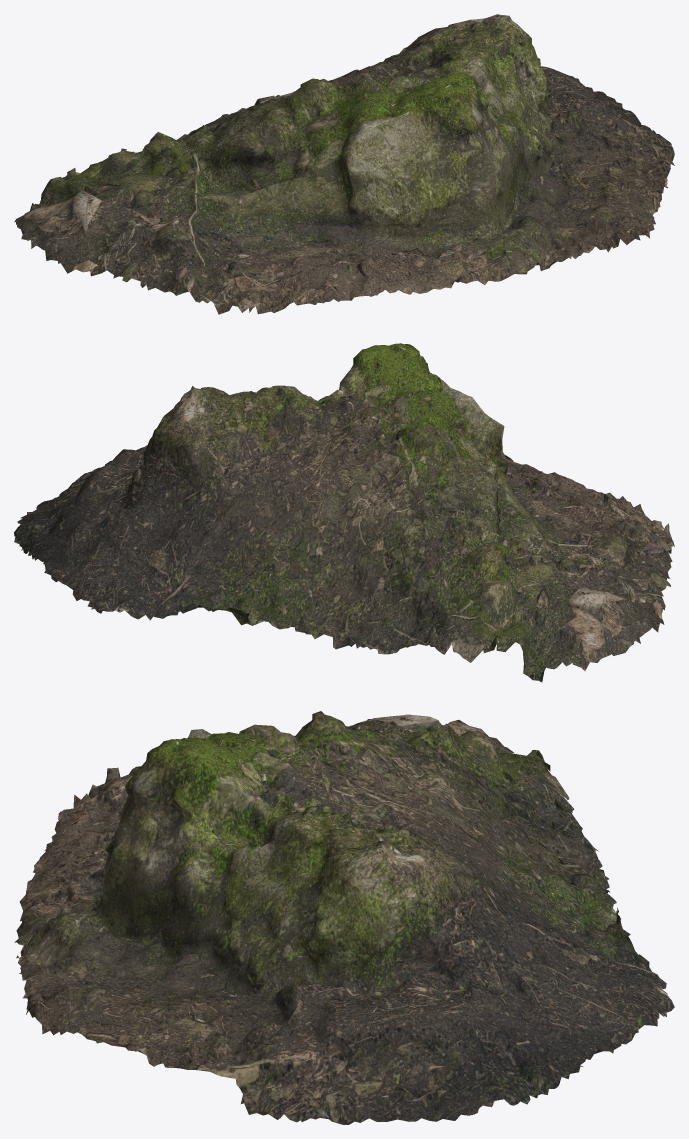
Rendered from mossy_rock2.glb.
The picture shows the model from 3 angles, top to bottom: view 1: azimuth 30°, elevation 25°; view 2: azimuth 150°, elevation 25°; view 3: azimuth 270°, elevation 25°; orthographic projection. The views are drawn at different scales.
Visible parts, largest first — view 1: Mossy Rock; view 2: Mossy Rock; view 3: Mossy Rock.
Part boxes in pixels (x1=…): Mossy Rock: x1=14, y1=14, x2=674, y2=314; Mossy Rock: x1=14, y1=343, x2=674, y2=682; Mossy Rock: x1=14, y1=711, x2=674, y2=1124.
Size of the model in its own units: 2.43 by 0.6364 by 1.78.
Materials: 1 (1 with a texture image).
